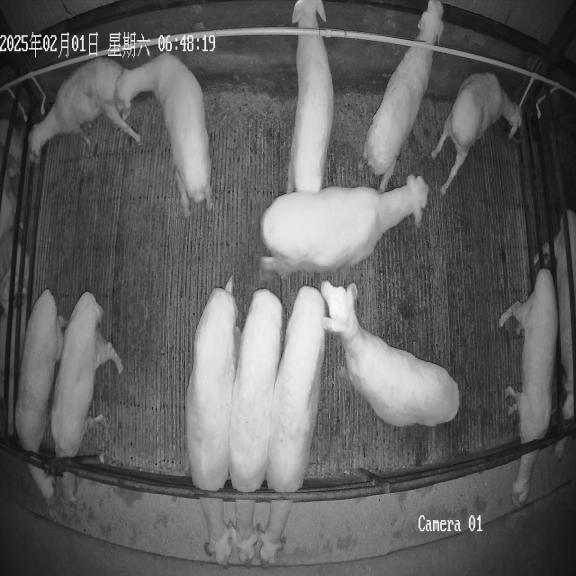drinking: (431, 73, 521, 194)
eating: (255, 286, 326, 564), (186, 278, 240, 565), (51, 292, 123, 503), (229, 288, 282, 563), (499, 269, 558, 506), (15, 289, 64, 501)
stand: (322, 282, 459, 426), (261, 176, 428, 275), (115, 54, 211, 217), (363, 0, 443, 192), (29, 57, 140, 162), (287, 0, 334, 193)
